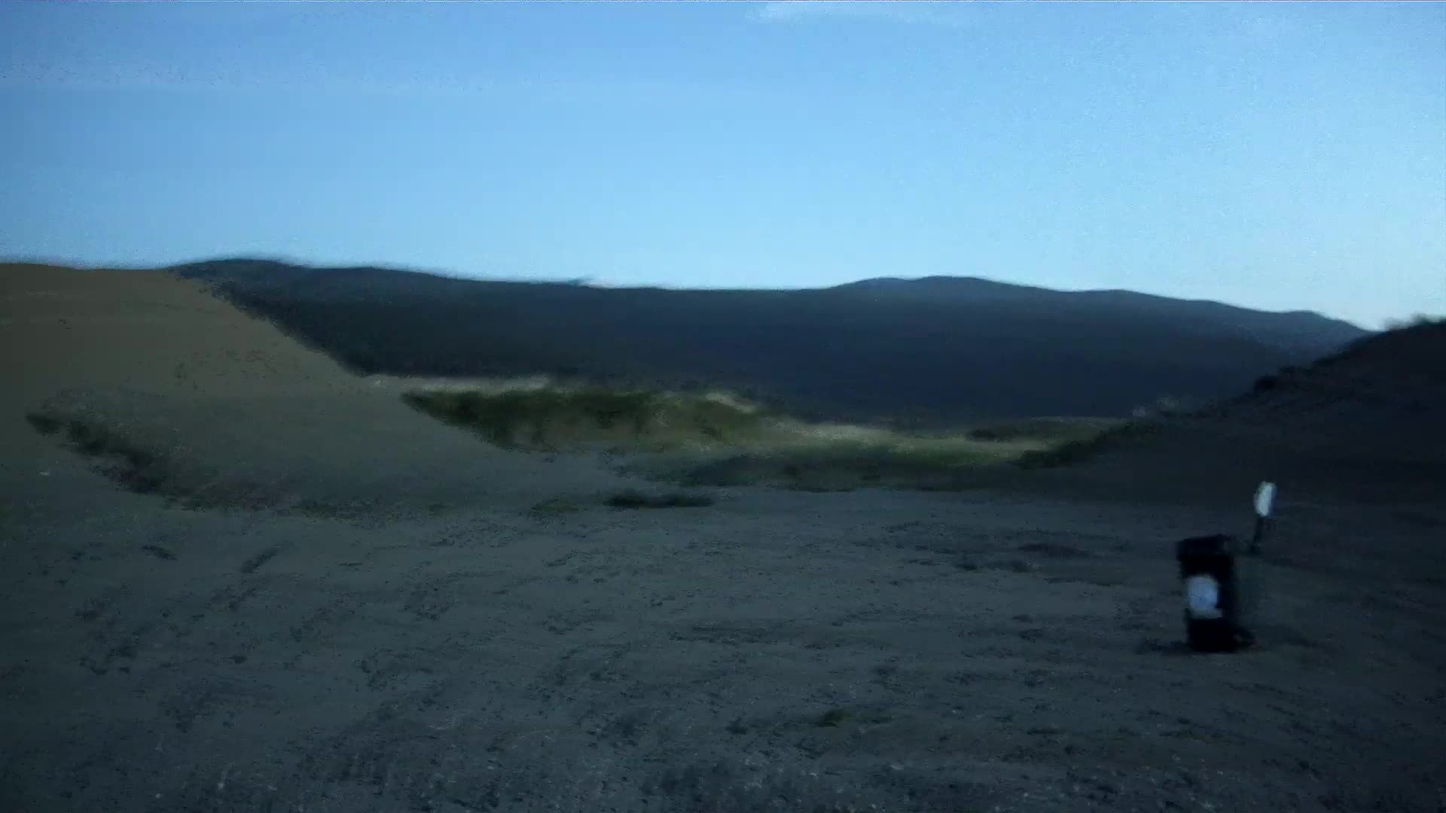Target: (1184, 574, 1225, 617)
